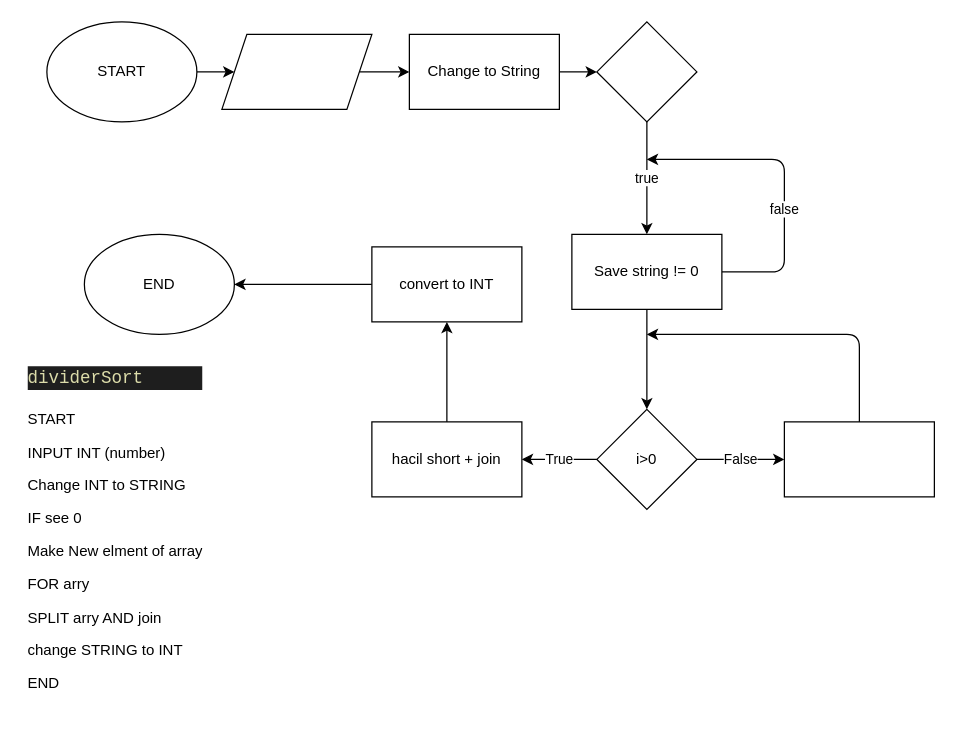
Image size: 956x756. Some labels were removed from this diagram. Here are the shapes that lost their labels. From the top down, the centre of each, then its label:
point (296, 71): input number
point (646, 71): if(input = "0")
point (858, 459): Hasil + Hasil Baru
